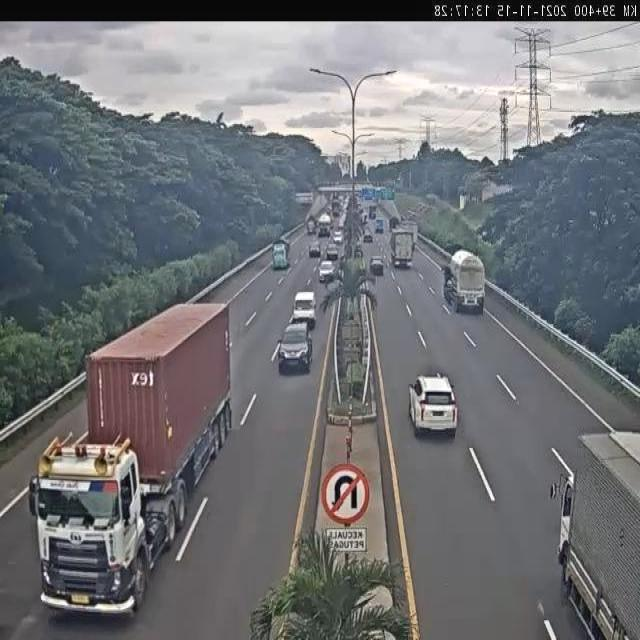Car: (410, 373, 459, 438), (278, 322, 313, 374)
Truck: (28, 301, 232, 616), (546, 429, 640, 640), (442, 250, 485, 311), (390, 229, 414, 269), (271, 234, 290, 270)
Van: (292, 291, 317, 323)
